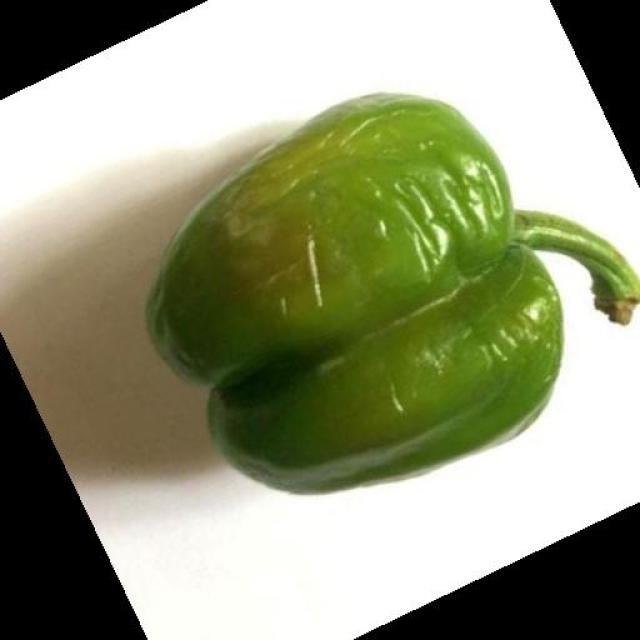Stale_Capsicum: (118, 106, 516, 454)
